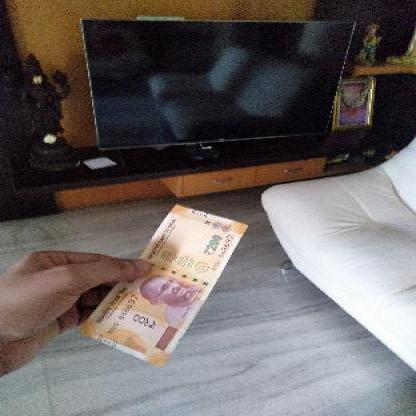New200Front: (82, 201, 250, 367)
